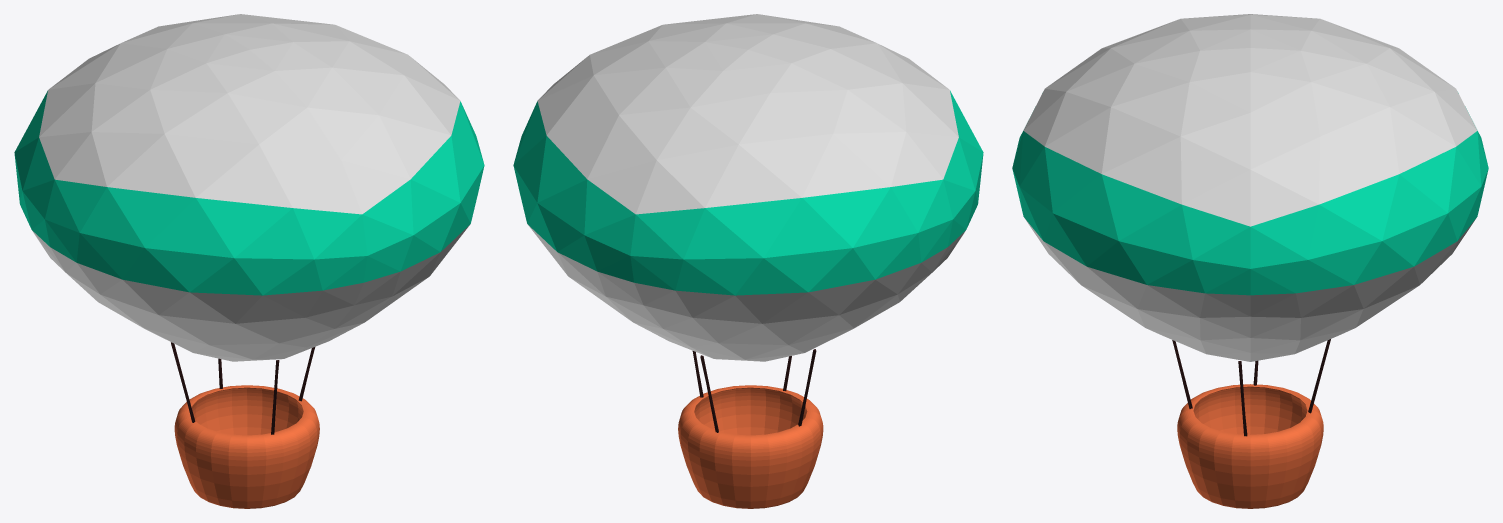
The model's file is ballon_green.dae.
The picture shows the model from 3 angles, left to right: view 1: azimuth 30°, elevation 25°; view 2: azimuth 150°, elevation 25°; view 3: azimuth 270°, elevation 25°; orthographic projection.
Visible parts, largest first — view 1: 气球, 底座; view 2: 气球, 底座; view 3: 气球, 底座.
Part boxes in pixels (x1=…): 气球: x1=14, y1=14, x2=484, y2=361; 底座: x1=174, y1=385, x2=319, y2=508; 气球: x1=513, y1=14, x2=983, y2=361; 底座: x1=678, y1=385, x2=823, y2=508; 气球: x1=1012, y1=14, x2=1488, y2=361; 底座: x1=1177, y1=384, x2=1323, y2=508.
Size of the model in its own units: 576 by 586 by 576.
